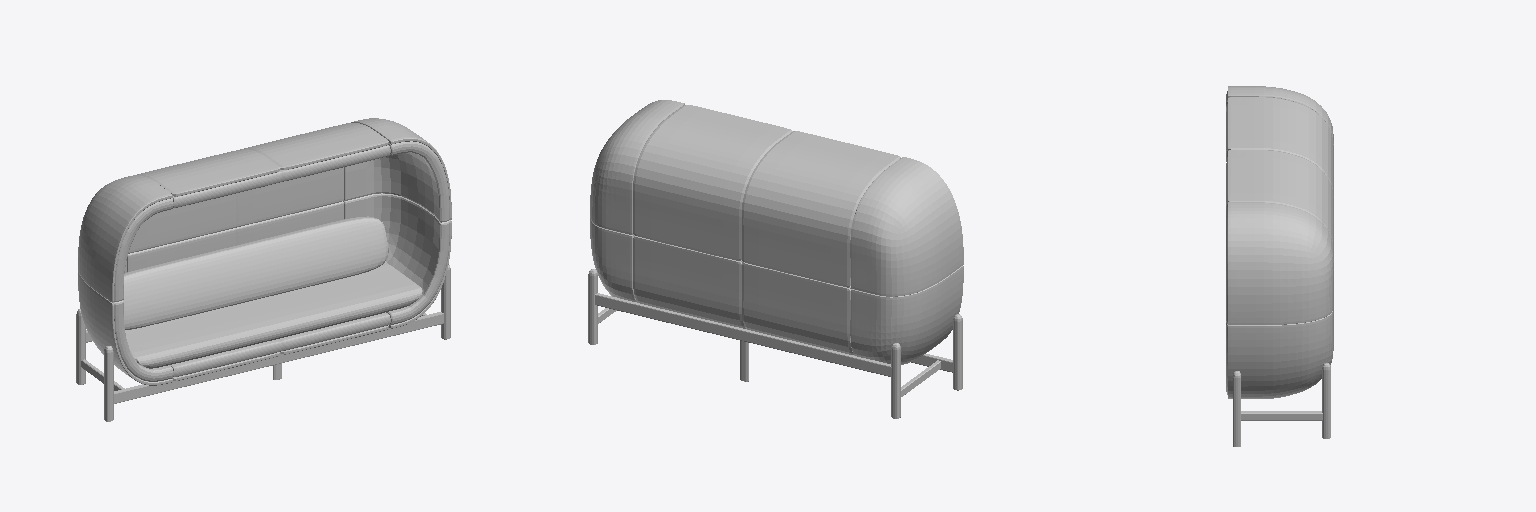
Rendered from 3seter_obj.obj.
3 views of the same model, side by side, from view 1: azimuth 30°, elevation 25°; view 2: azimuth 150°, elevation 25°; view 3: azimuth 270°, elevation 25° (orthographic).
Parts seen in each view (by area): view 1: Pod_3-seter_mesh_Cube.004; view 2: Pod_3-seter_mesh_Cube.004; view 3: Pod_3-seter_mesh_Cube.004.
Part boxes in pixels (bbox=[...]): Pod_3-seter_mesh_Cube.004: bbox=[76, 118, 451, 421]; Pod_3-seter_mesh_Cube.004: bbox=[588, 100, 963, 418]; Pod_3-seter_mesh_Cube.004: bbox=[1226, 86, 1333, 446].
Bounding box in the file's own units: 4.66 × 2.77 × 1.26.